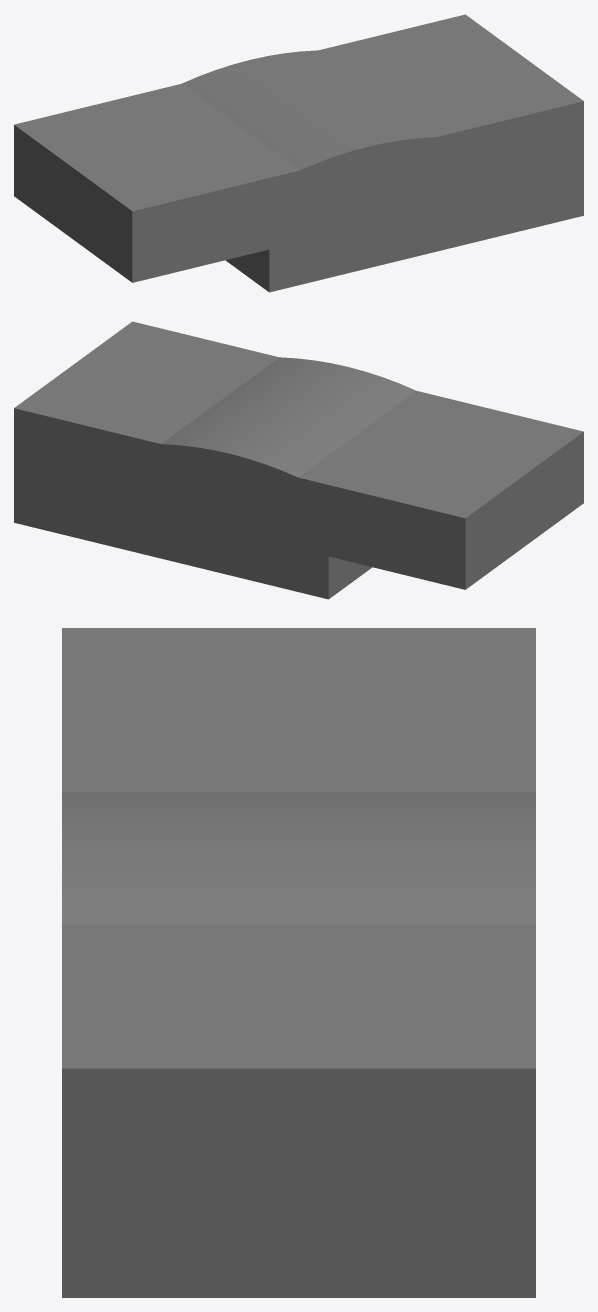
3 views of the same model, one above another, from view 1: azimuth 30°, elevation 25°; view 2: azimuth 150°, elevation 25°; view 3: azimuth 270°, elevation 25° (orthographic). The views are drawn at different scales.
Parts seen in each view (by area): view 1: mesh_id4, mesh_id5; view 2: mesh_id4, mesh_id5; view 3: mesh_id4, mesh_id5.
Boxes of the visible parts, box(x1,y1,x2,y2) form: mesh_id4: box(14, 14, 583, 292); mesh_id5: box(182, 50, 436, 264); mesh_id4: box(14, 321, 583, 599); mesh_id5: box(161, 357, 415, 571); mesh_id4: box(62, 628, 535, 1297); mesh_id5: box(62, 791, 535, 924).
Size of the model in its own units: 0.512 by 0.1319 by 0.2327.
Materials: 2 (2 with a texture image).
